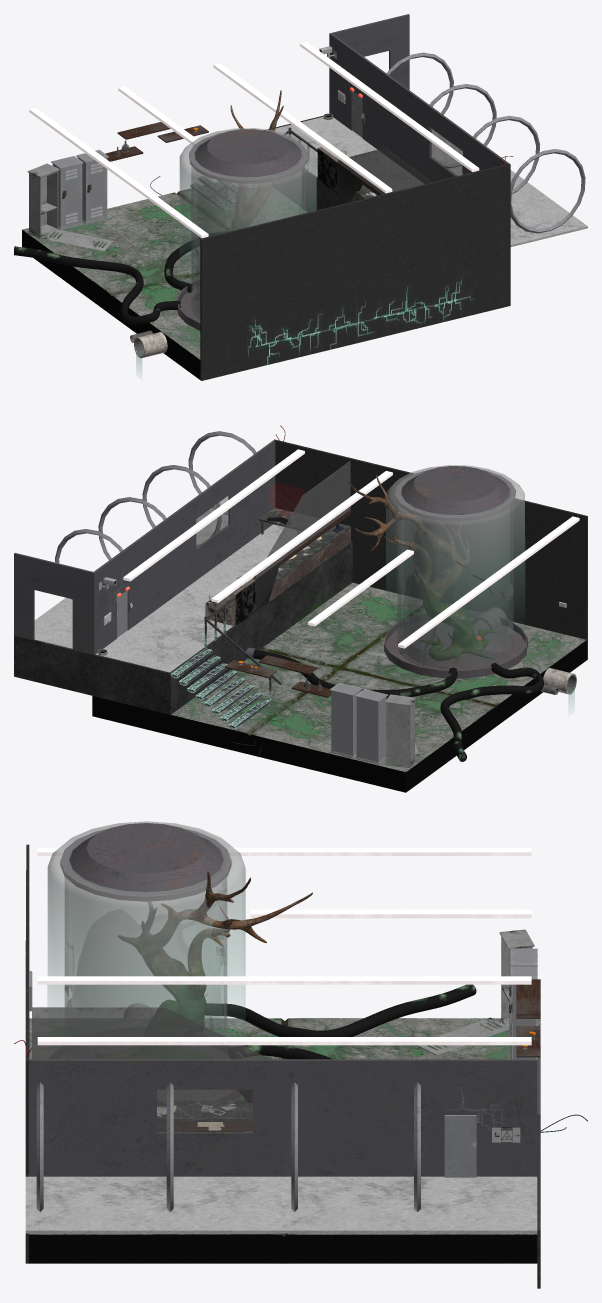
Rendered from overgrown.glb.
3 views of the same model, one above another, from view 1: azimuth 30°, elevation 25°; view 2: azimuth 150°, elevation 25°; view 3: azimuth 270°, elevation 25° (orthographic). The views are drawn at different scales.
Parts seen in each view (by area): view 1: overgrown.glb; view 2: overgrown.glb; view 3: overgrown.glb.
Boxes of the visible parts, x1,y1,x2,y2 form: overgrown.glb: (14,14,587,380); overgrown.glb: (14,425,587,792); overgrown.glb: (14,821,587,1288).
Bounding box in the file's own units: 9.66 × 5.1 × 7.92.
Materials: 32 (32 with a texture image).
